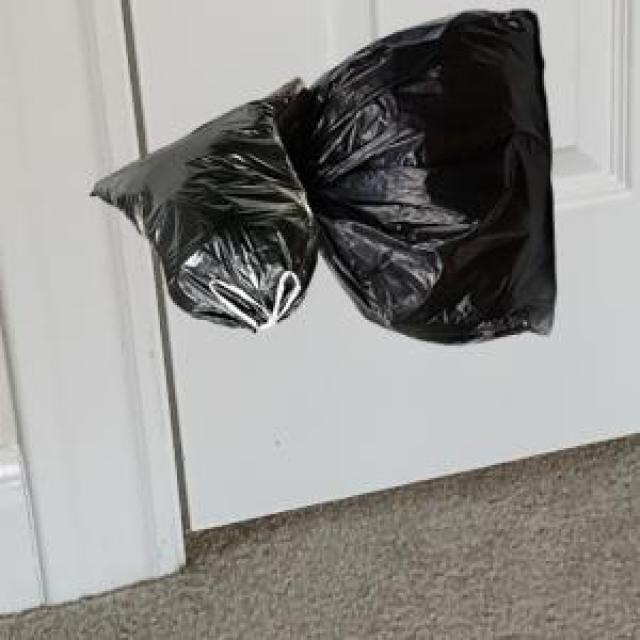miscellaneous trash: (265, 6, 553, 339), (88, 92, 314, 329)
